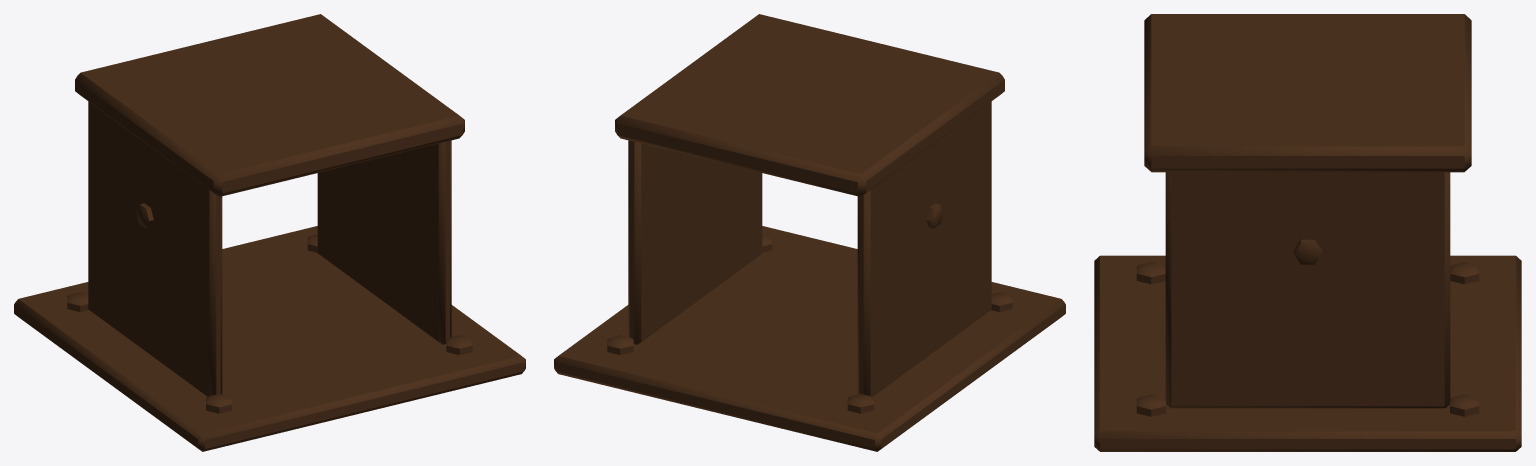
Rendered from post-shoe-bronze.lod0.glb.
The picture shows the model from 3 angles, left to right: view 1: azimuth 30°, elevation 25°; view 2: azimuth 150°, elevation 25°; view 3: azimuth 270°, elevation 25°; orthographic projection. The views are drawn at different scales.
Parts seen in each view (by area): view 1: post_shoe_bronze_Trim • places palette; view 2: post_shoe_bronze_Trim • places palette; view 3: post_shoe_bronze_Trim • places palette.
Boxes of the visible parts, x1,y1,x2,y2 form: post_shoe_bronze_Trim • places palette: (14, 14, 525, 451); post_shoe_bronze_Trim • places palette: (554, 14, 1065, 451); post_shoe_bronze_Trim • places palette: (1094, 14, 1521, 451).
Bounding box in the file's own units: 0.3 × 0.22 × 0.3.
Materials: 1 (1 with a texture image).
